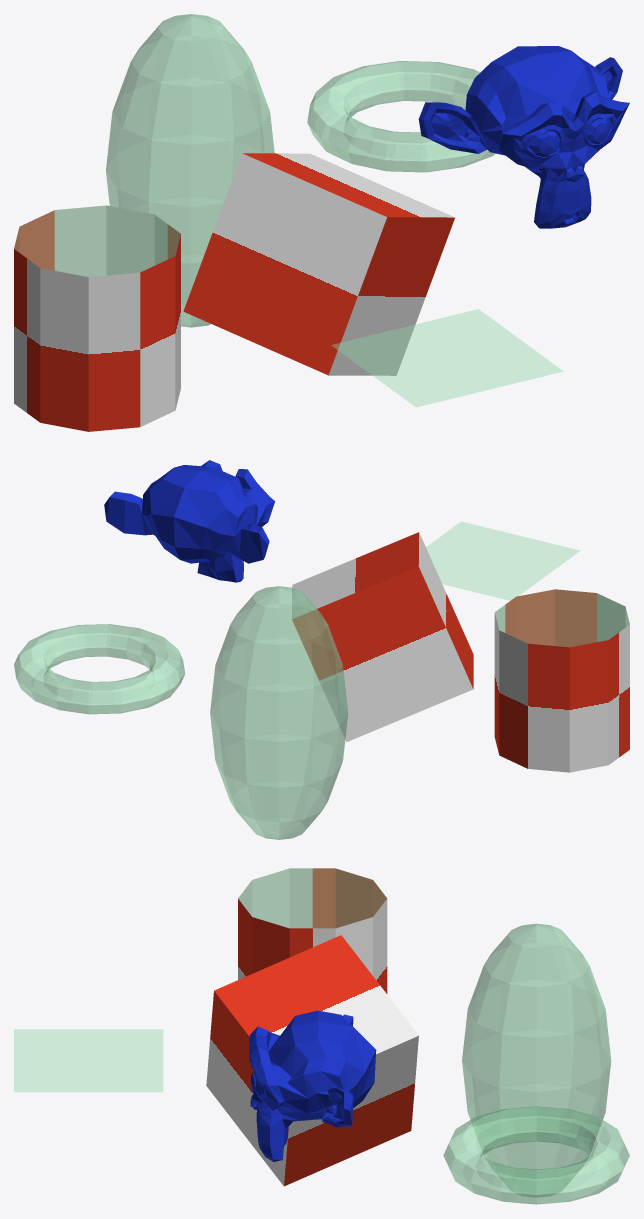
Rendered from objects_groups.obj.
3 views of the same model, one above another, from view 1: azimuth 30°, elevation 25°; view 2: azimuth 150°, elevation 25°; view 3: azimuth 270°, elevation 25° (orthographic). The views are drawn at different scales.
Parts seen in each view (by area): view 1: Cube, Cylinder, Sphere, Monkey, Grid, Torus; view 2: Sphere, Cube, Cylinder, Monkey, Torus, Grid; view 3: Sphere, Cube, Monkey, Cylinder, Torus, Grid.
Boxes of the visible parts, x1,y1,x2,y2 form: Cube: (183,153,455,375); Cylinder: (14,205,180,431); Sphere: (106,14,274,327); Monkey: (418,46,629,228); Grid: (331,309,563,407); Torus: (307,61,495,172); Sphere: (210,586,348,839); Cube: (292,532,473,742); Cylinder: (494,589,629,772); Monkey: (104,460,274,582); Torus: (14,624,184,714); Grid: (426,521,579,600); Sphere: (462,923,611,1197); Cube: (206,935,418,1186); Monkey: (249,1010,376,1161); Cylinder: (238,868,387,993); Torus: (443,1106,629,1204); Grid: (14,1029,162,1091).
Bounding box in the file's own units: 8.32 × 4 × 8.25.
3 materials, 1 textured.
